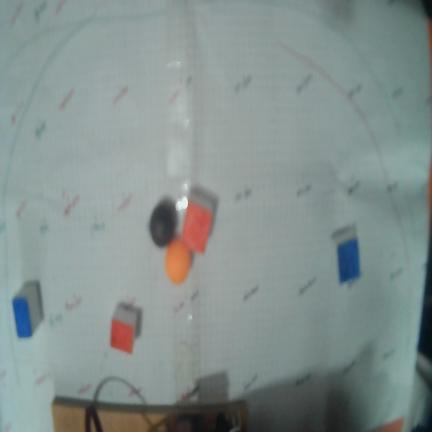circle_blue: (150, 199, 177, 247)
circle_orange: (165, 238, 191, 284)
rectangle_blue: (13, 298, 31, 337)
rectangle_orange: (181, 199, 212, 253), (111, 318, 135, 355)
square_blue: (337, 239, 362, 284)
